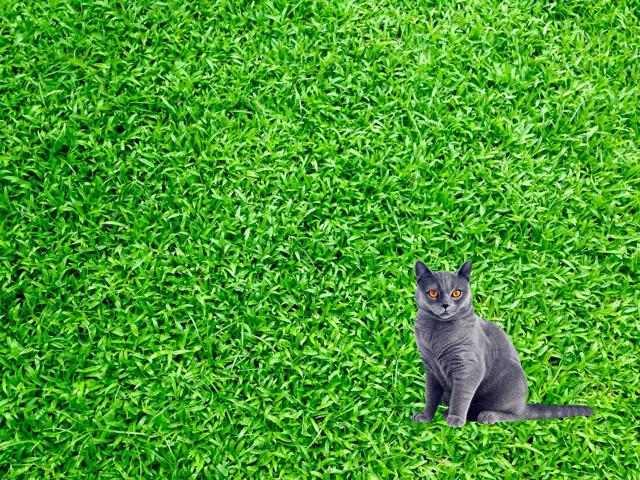cat: (397, 252, 596, 432)
